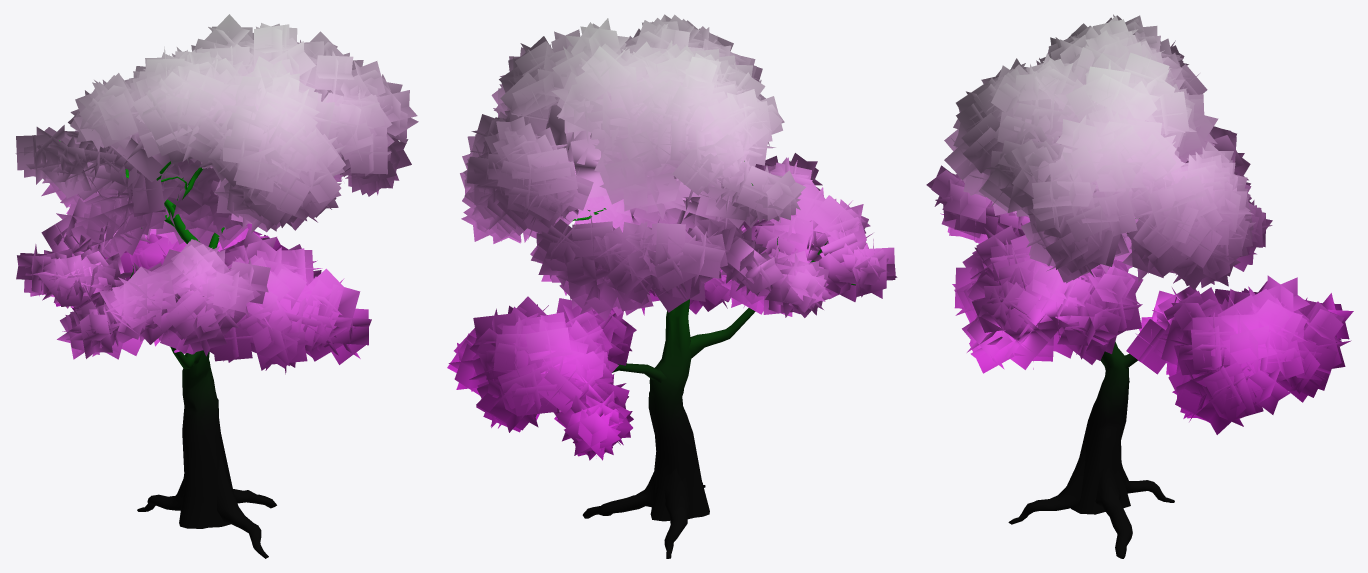
File: TSI_Broadleaf_Tree_04A.fbx
3 renders of one model, left to right at view 1: azimuth 30°, elevation 25°; view 2: azimuth 150°, elevation 25°; view 3: azimuth 270°, elevation 25°, orthographic.
Visible parts, largest first — view 1: TSI_Broadleaf_Tree_04A_LOD0; view 2: TSI_Broadleaf_Tree_04A_LOD0; view 3: TSI_Broadleaf_Tree_04A_LOD0.
Part boxes in pixels (box(x1,y1,x2,y2)): TSI_Broadleaf_Tree_04A_LOD0: box(15, 14, 418, 558); TSI_Broadleaf_Tree_04A_LOD0: box(447, 14, 897, 558); TSI_Broadleaf_Tree_04A_LOD0: box(926, 14, 1353, 558).
Bounding box in the file's own units: 1514 × 1920 × 1521.
